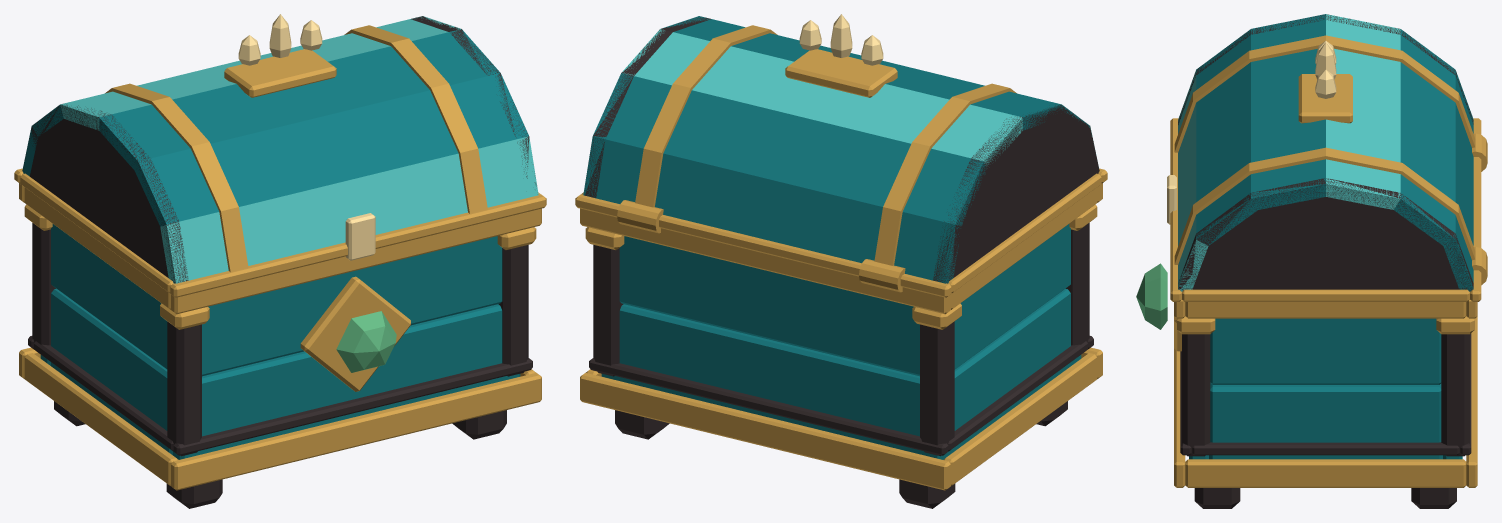
Rendered from 02_Royal_Chest.glb.
3 views of the same model, side by side, from view 1: azimuth 30°, elevation 25°; view 2: azimuth 150°, elevation 25°; view 3: azimuth 270°, elevation 25° (orthographic). The views are drawn at different scales.
Parts seen in each view (by area): view 1: 02_Royal_Chest__Body, 02_Royal_Chest__Lid; view 2: 02_Royal_Chest__Body, 02_Royal_Chest__Lid; view 3: 02_Royal_Chest__Lid, 02_Royal_Chest__Body.
Boxes of the visible parts, left/top/right/bottom form: 02_Royal_Chest__Body: left=19, top=183, right=541, bottom=508; 02_Royal_Chest__Lid: left=14, top=14, right=546, bottom=297; 02_Royal_Chest__Body: left=580, top=183, right=1102, bottom=508; 02_Royal_Chest__Lid: left=575, top=14, right=1107, bottom=297; 02_Royal_Chest__Lid: left=1167, top=14, right=1481, bottom=301; 02_Royal_Chest__Body: left=1136, top=133, right=1487, bottom=508.
Bounding box in the file's own units: 2.9 × 3.05 × 2.47.
1 material, 1 textured.
